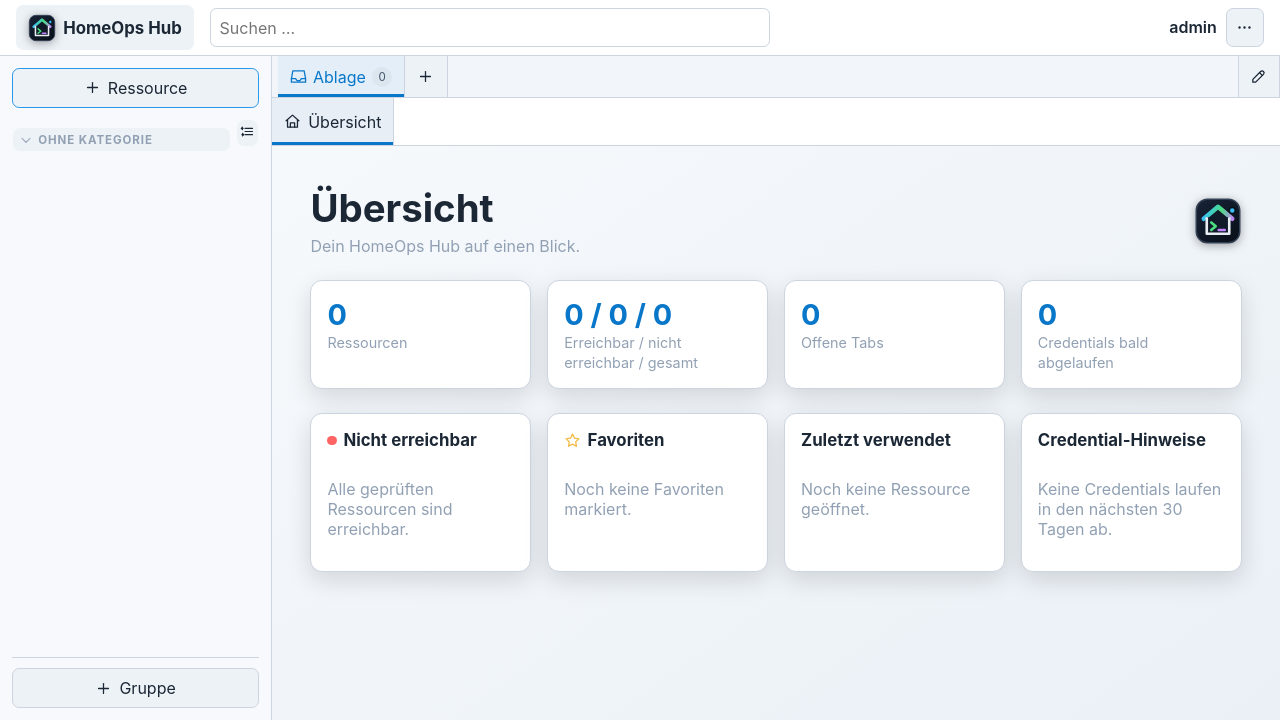
it: returns to login after the server confirms logout
The image size is (1280, 720).
Expected: the field with placeholder "Suchen …" is shown, [210,8,770,47]
Click the button named "Benutzermenü". click: (1245, 28)
box: [1226,8,1264,47]
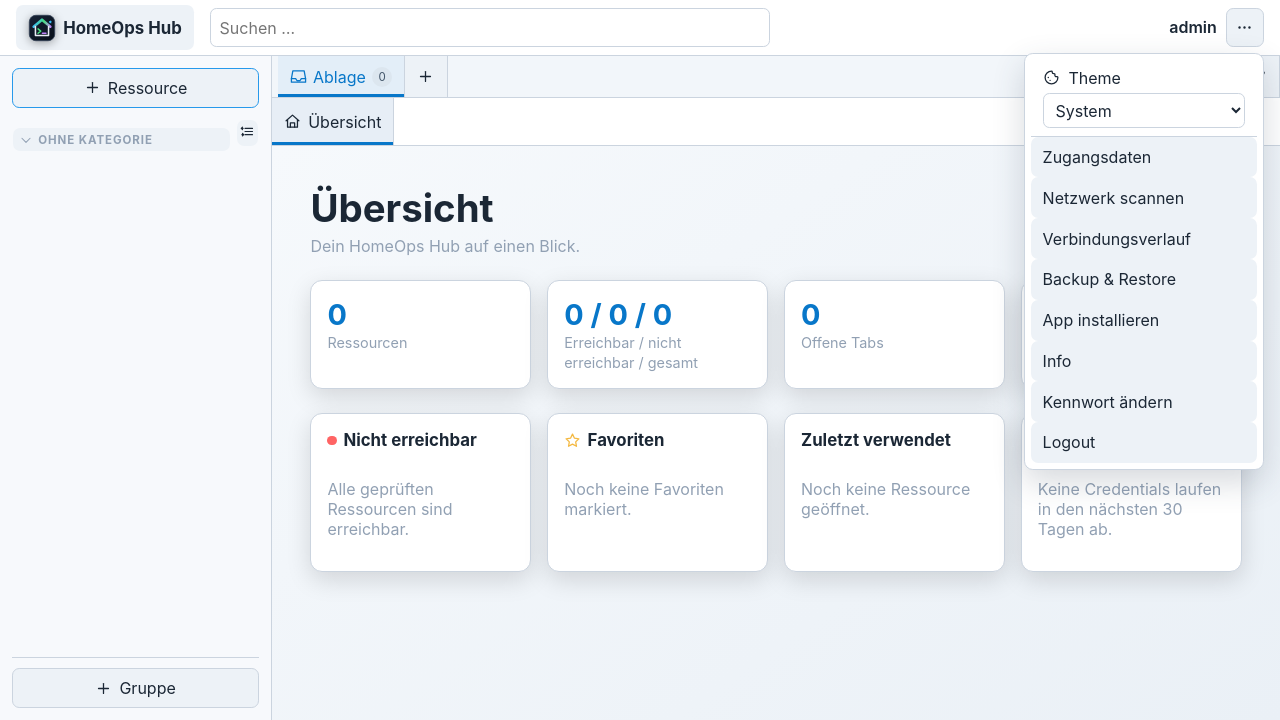
Click the menu item "Logout". click: (1144, 442)
box: [1031,422,1257,463]
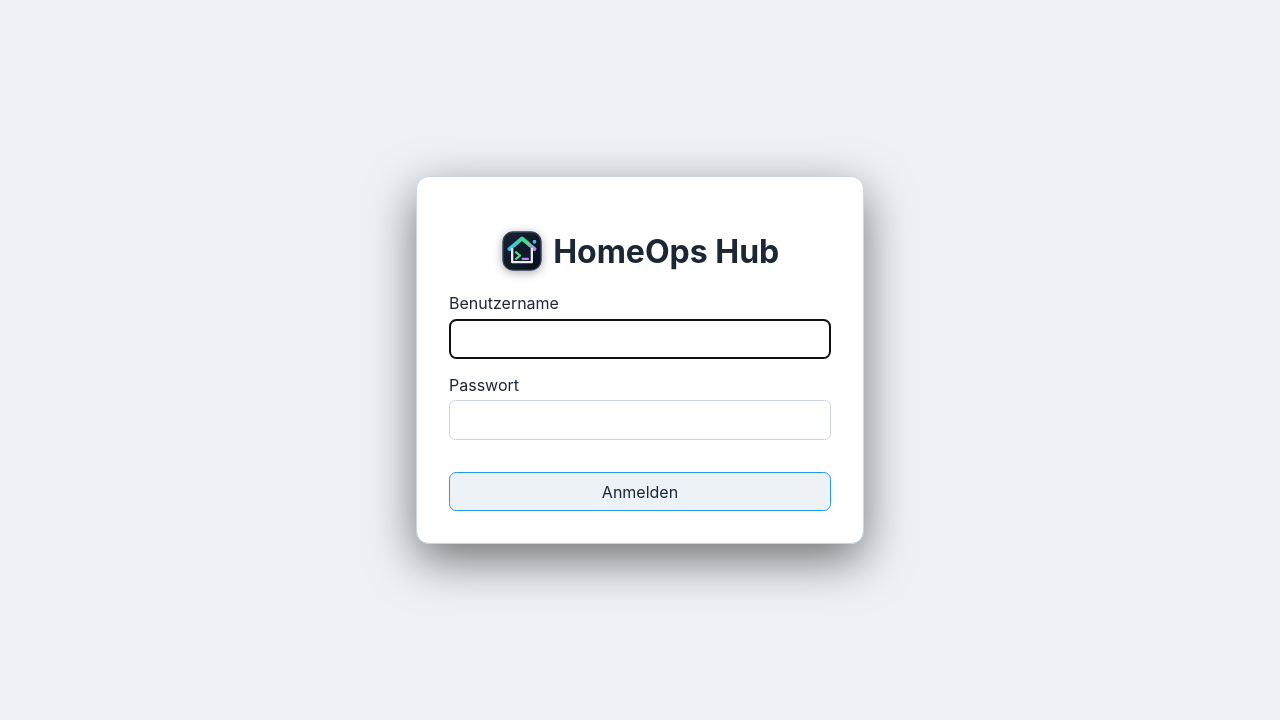
Expected: the button "Anmelden" is shown, [449,472,831,511]
